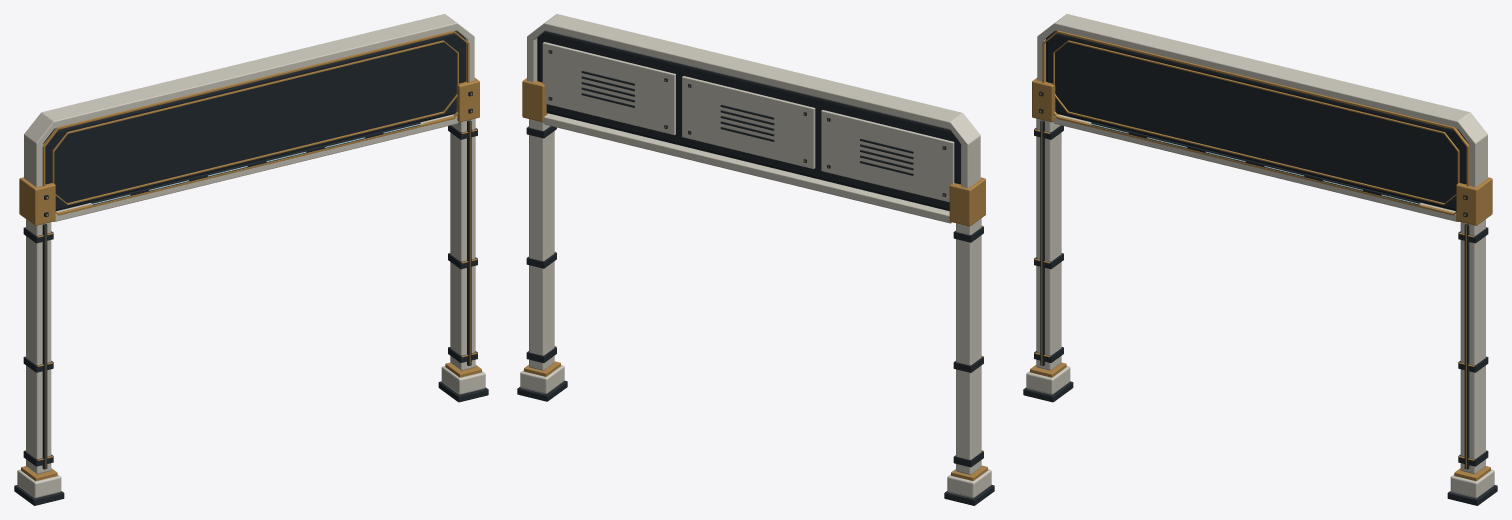
Rendered from SM_Aurelion_KIT_WayfindingGallery.fbx.
3 renders of one model, left to right at view 1: azimuth 30°, elevation 25°; view 2: azimuth 150°, elevation 25°; view 3: azimuth 330°, elevation 25°, orthographic.
Parts seen in each view (by area): view 1: SM_Aurelion_KIT_WayfindingGallery; view 2: SM_Aurelion_KIT_WayfindingGallery; view 3: SM_Aurelion_KIT_WayfindingGallery.
Part boxes in pixels (<box>): SM_Aurelion_KIT_WayfindingGallery: <box>14,14,488,505</box>; SM_Aurelion_KIT_WayfindingGallery: <box>517,14,994,505</box>; SM_Aurelion_KIT_WayfindingGallery: <box>1023,14,1497,505</box>.
Size of what is drawn, in the model's own units: 388 by 30 by 305.
